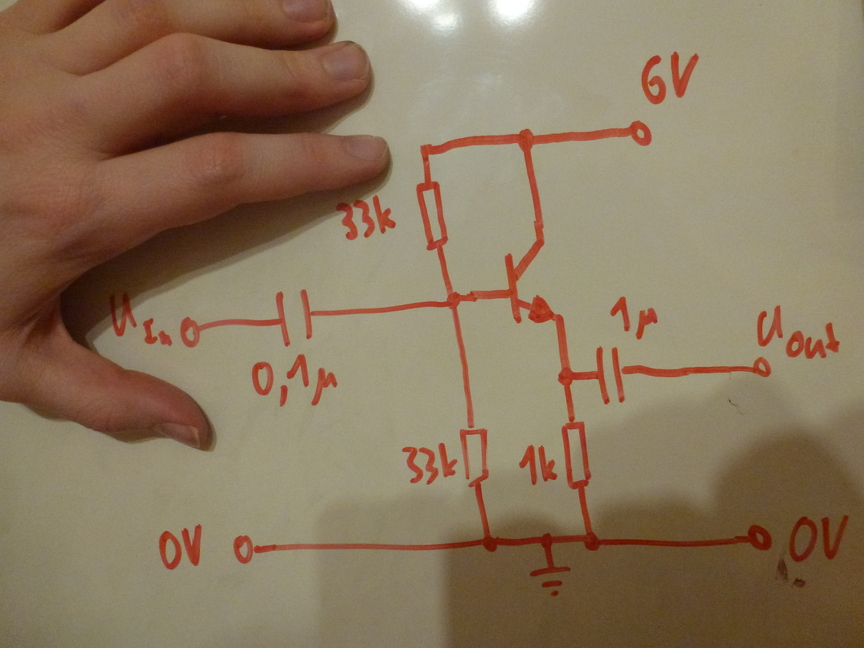capacitor.unpolarized: (265, 285, 324, 349), (589, 343, 636, 410)
gnd: (527, 561, 580, 600)
junction: (509, 123, 542, 156), (578, 528, 606, 557), (439, 288, 466, 315), (552, 365, 579, 389), (477, 531, 503, 555), (416, 140, 437, 162), (536, 531, 557, 552)
resistor: (557, 414, 600, 498), (410, 177, 454, 254), (453, 420, 496, 492)
terminal: (738, 520, 777, 557), (226, 530, 262, 567), (624, 114, 658, 153), (176, 312, 208, 353), (745, 356, 776, 382)
text: (248, 352, 343, 411), (753, 302, 842, 361), (636, 47, 704, 111), (106, 289, 176, 351), (784, 512, 852, 566), (334, 192, 404, 243), (153, 522, 211, 576), (400, 440, 458, 487), (607, 293, 663, 341), (516, 440, 561, 487)
transistor: (498, 233, 576, 333)
